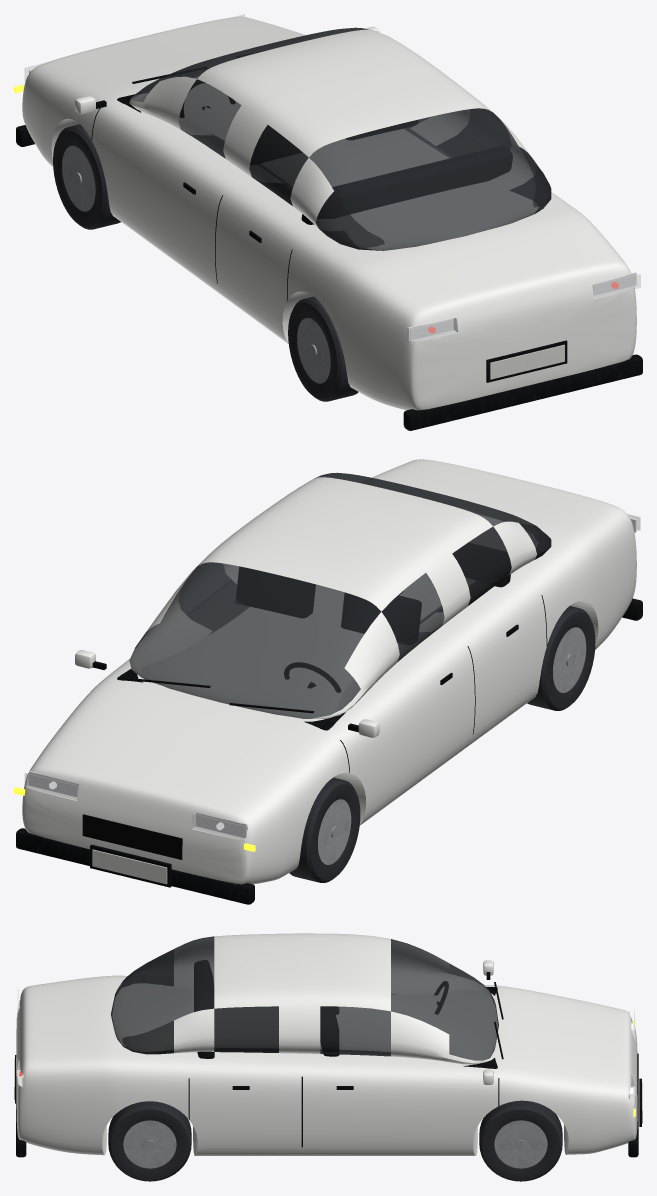
Rendered from saloon_white.gltf.
The picture shows the model from 3 angles, top to bottom: view 1: azimuth 30°, elevation 25°; view 2: azimuth 150°, elevation 25°; view 3: azimuth 270°, elevation 25°; orthographic projection. The views are drawn at different scales.
Parts seen in each view (by area): view 1: saloon_white; view 2: saloon_white; view 3: saloon_white.
Part boxes in pixels (x1=…): saloon_white: x1=14, y1=14, x2=642, y2=430; saloon_white: x1=14, y1=459, x2=642, y2=904; saloon_white: x1=14, y1=933, x2=642, y2=1181.
Bounding box in the file's own units: 2.11 × 1.46 × 4.83.
Materials: 17 (8 with a texture image).
